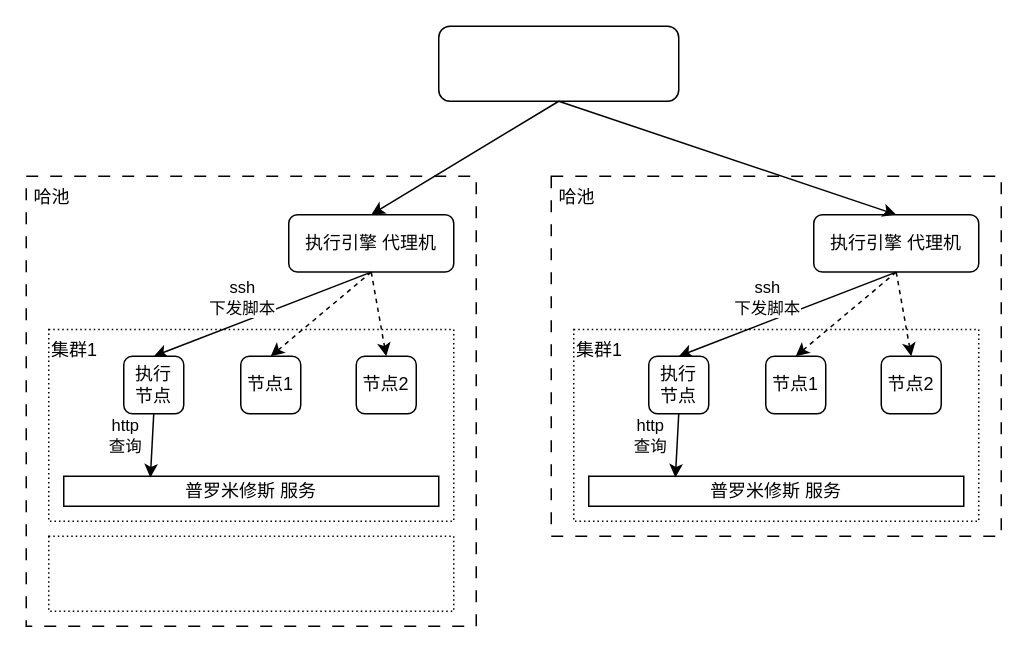
The diagram is 1028 pixels wide and 653 high, and some of its shapes have lost their labels. The centre of each missing label's shape, as x and y in pixels:
管控平台: the point at 558,63
集群2: the point at 250,573
